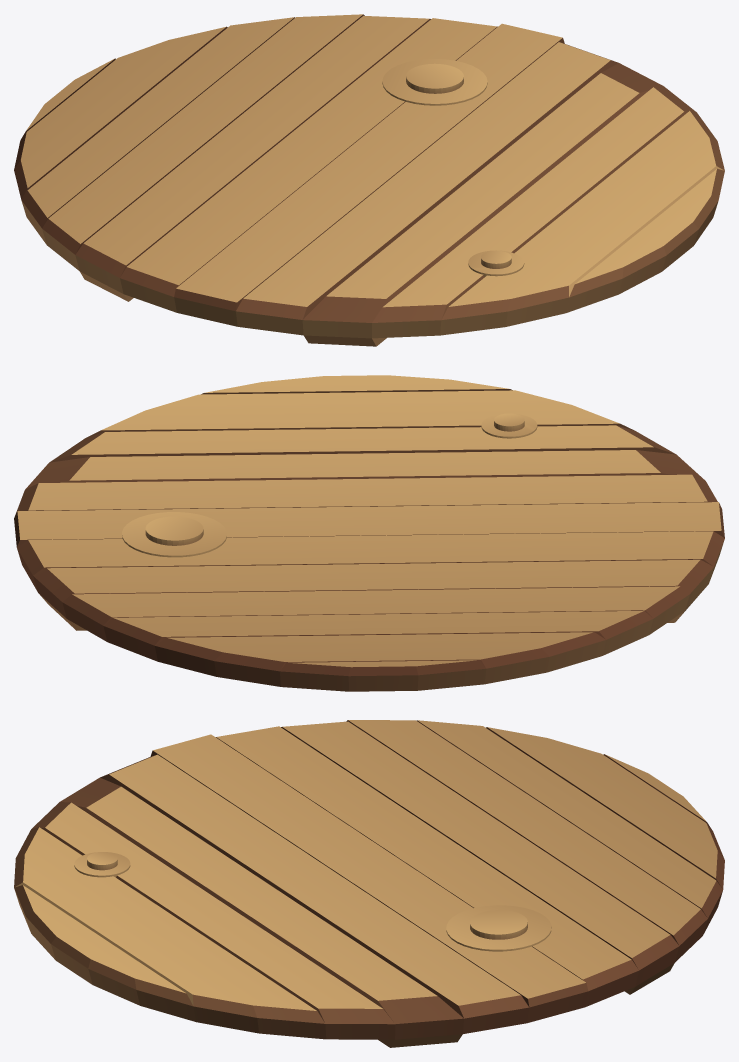
File: Small Light Barrel Lid.fbx
3 renders of one model, top to bottom at view 1: azimuth 30°, elevation 25°; view 2: azimuth 150°, elevation 25°; view 3: azimuth 270°, elevation 25°, orthographic.
Visible parts, largest first — view 1: Small Light Barrel Lid; view 2: Small Light Barrel Lid; view 3: Small Light Barrel Lid.
Part boxes in pixels (box(x1,y1,x2,y2)): Small Light Barrel Lid: box(14, 14, 724, 346); Small Light Barrel Lid: box(14, 375, 724, 691); Small Light Barrel Lid: box(14, 720, 724, 1047).
Size of the model in its own units: 13.65 by 185 by 185.
Materials: 1 (1 with a texture image).
